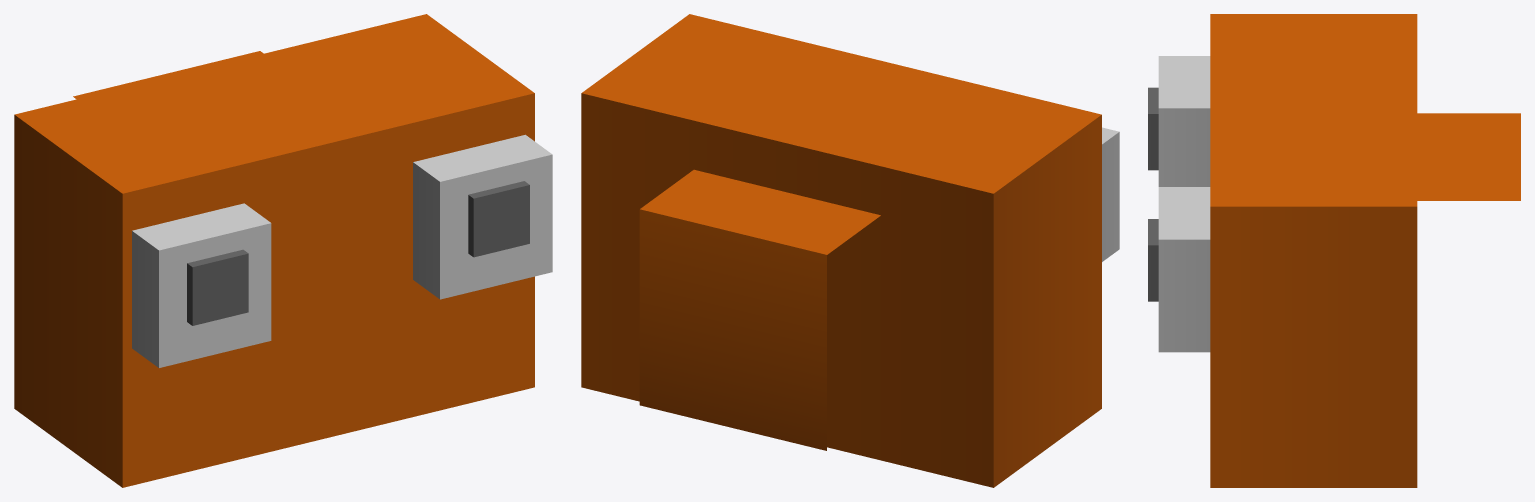
Rendered from googelon-head-simple.glb.
3 renders of one model, left to right at view 1: azimuth 30°, elevation 25°; view 2: azimuth 150°, elevation 25°; view 3: azimuth 270°, elevation 25°, orthographic. The views are drawn at different scales.
Parts seen in each view (by area): view 1: mesh0; view 2: mesh0; view 3: mesh0.
Part boxes in pixels (<box>): mesh0: <box>14,14,552,487</box>; mesh0: <box>581,14,1119,487</box>; mesh0: <box>1148,14,1520,487</box>.
Bounding box in the file's own units: 0.44 × 0.3 × 0.36.
